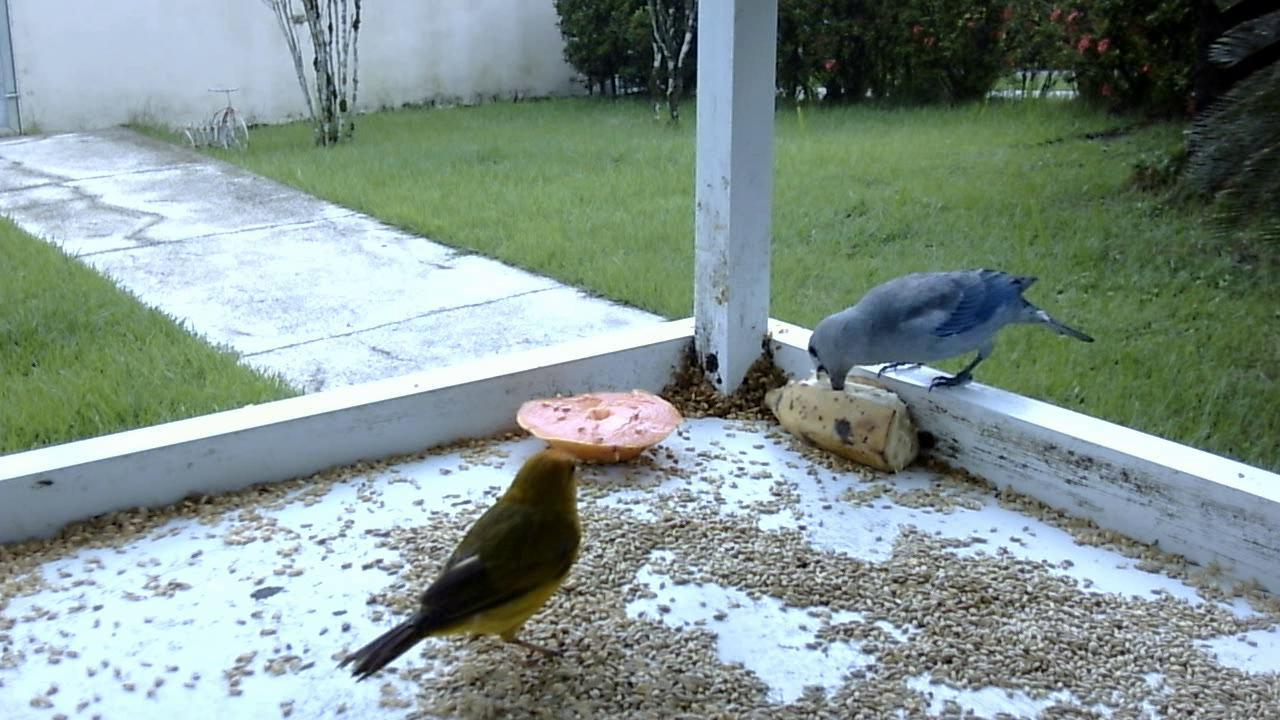canario_do_amazonas: (334, 441, 599, 686)
sanhaco_da_amazonia: (797, 264, 1089, 408)
